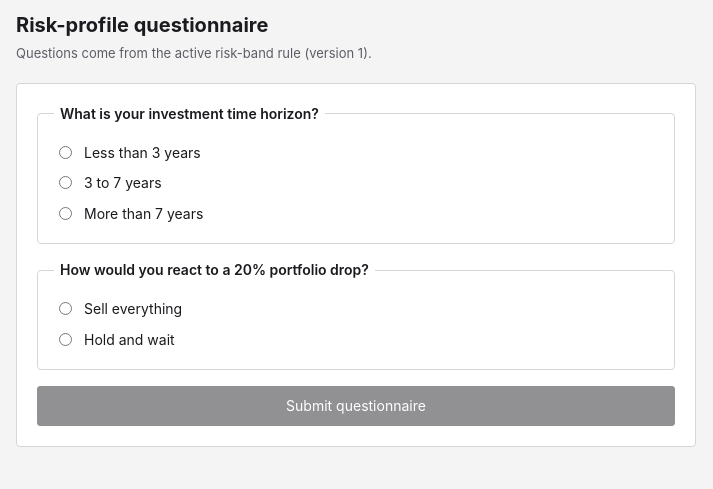
it: Questionnaire › renders one control group per question and keeps Submit disabled until every question is answered (AC1)
Expected: the text "What is your investment time horizon?" is shown, [54, 104, 325, 124]
Expected: the text "How would you react to a 20% portfolio drop?" is shown, [54, 260, 375, 280]
Click the radio button with test id "question-1-option-1" at (66, 153), box [59, 146, 72, 159]
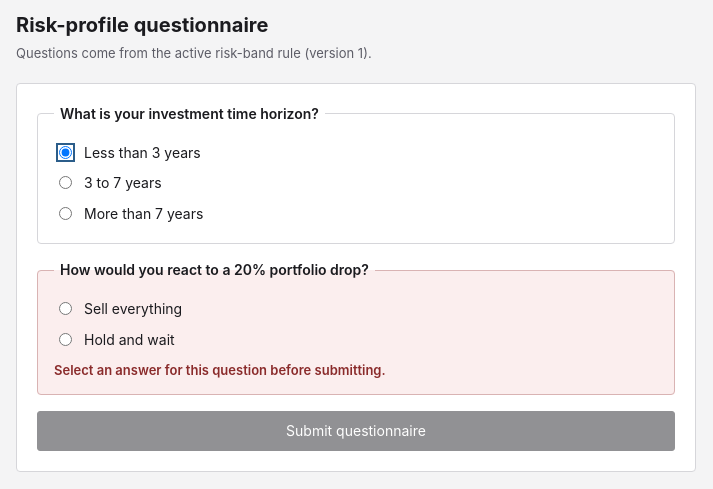
Expected: the button "Submit questionnaire" is disabled, [37, 411, 675, 451]
Click the radio button with test id "question-2-option-1" at (66, 309), box [59, 302, 72, 315]
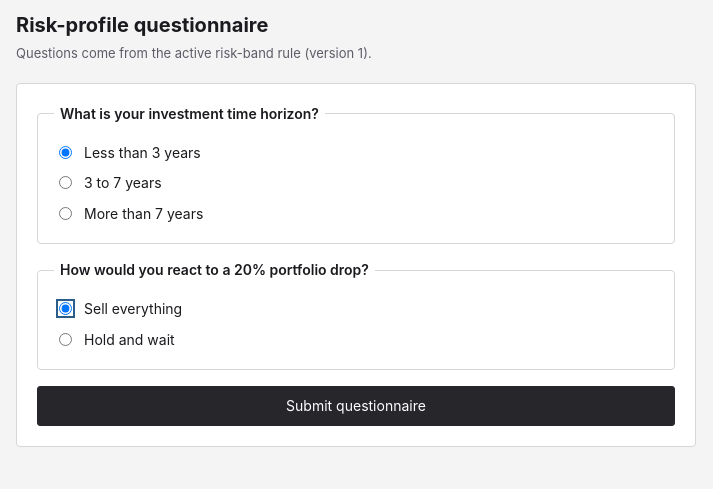
Expected: the button "Submit questionnaire" is enabled, [37, 386, 675, 426]
